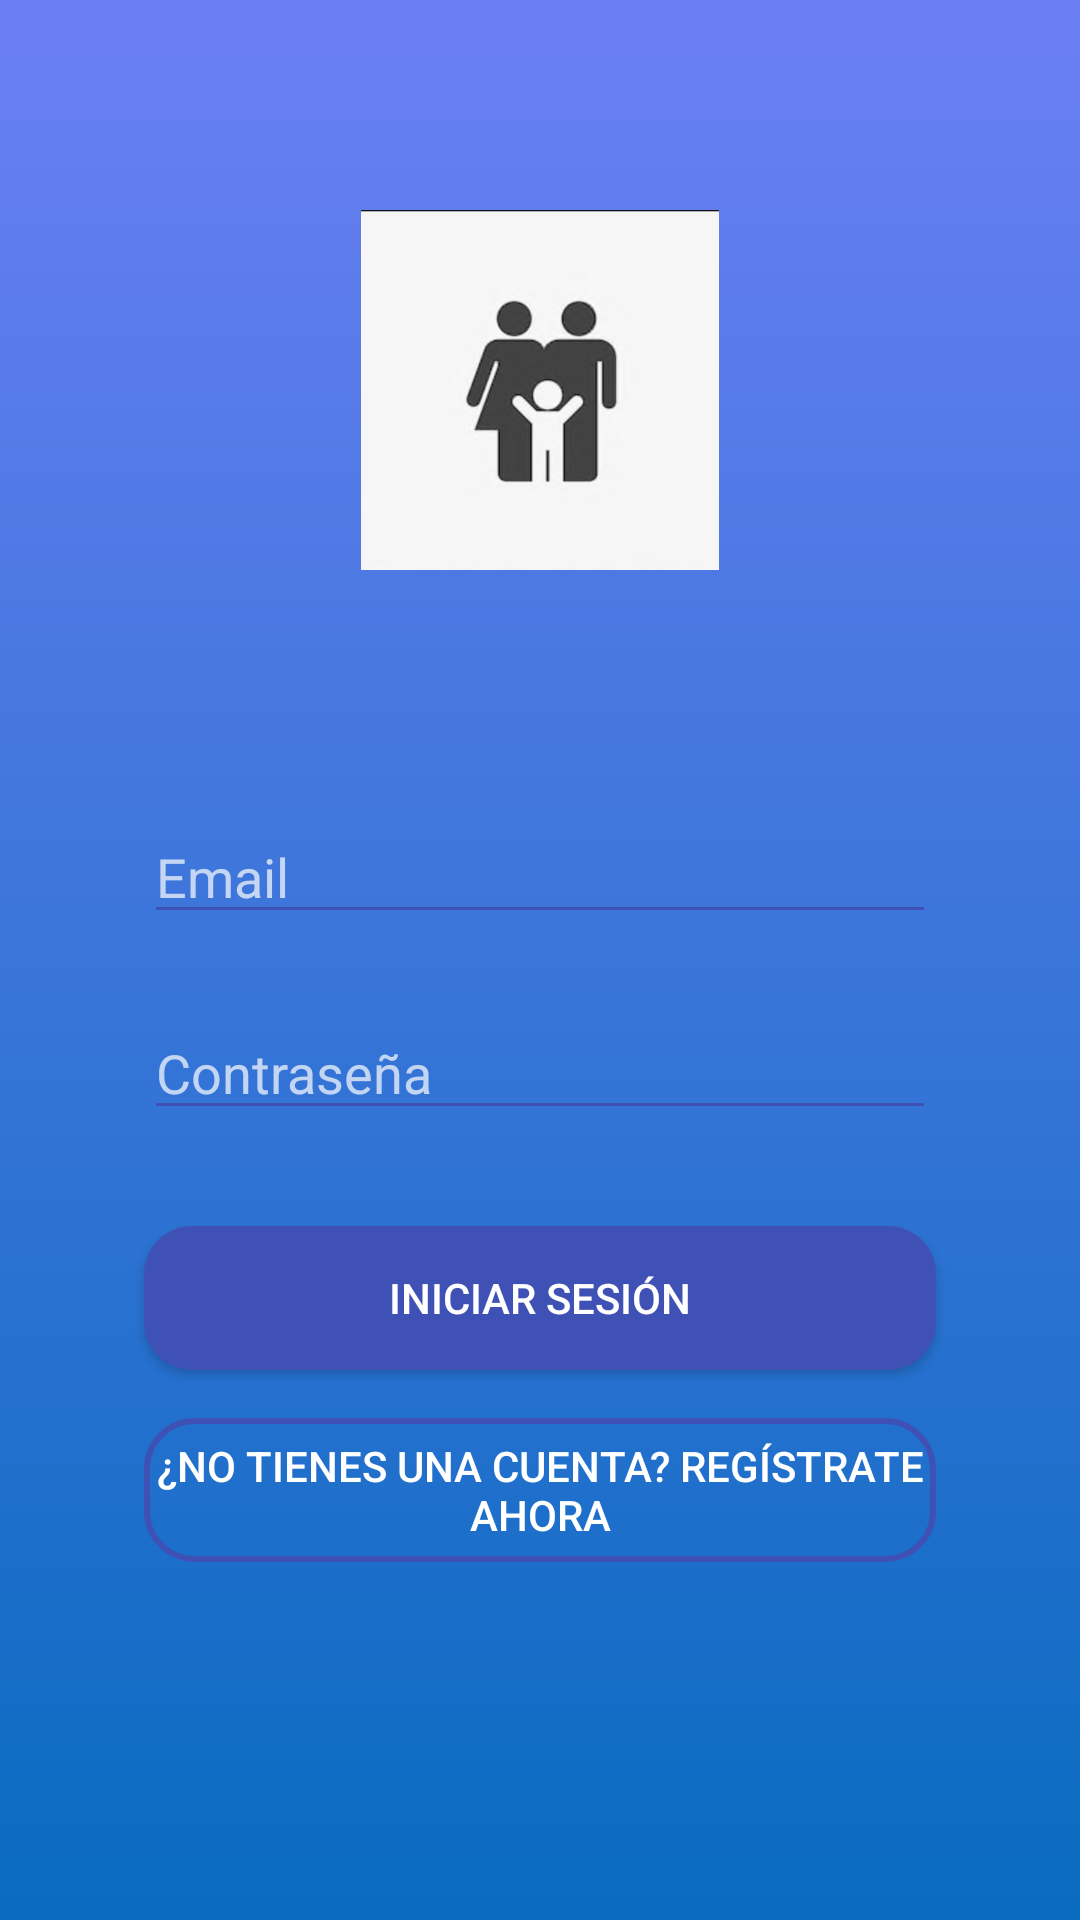

Screen size 1080px x 1920px. Icon name, then its center in pixels as point (x, y):
family: point (540, 390)
